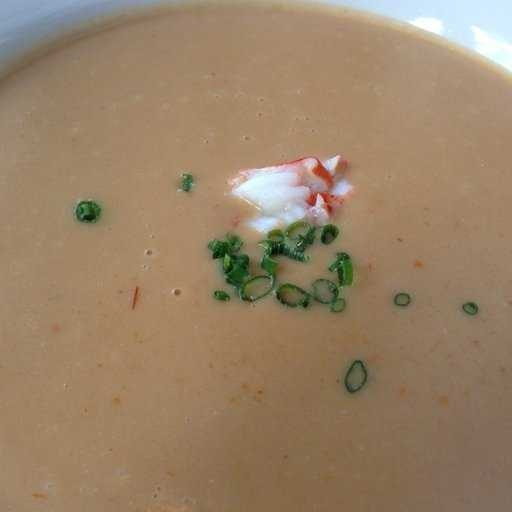soup: (1, 27, 500, 509)
